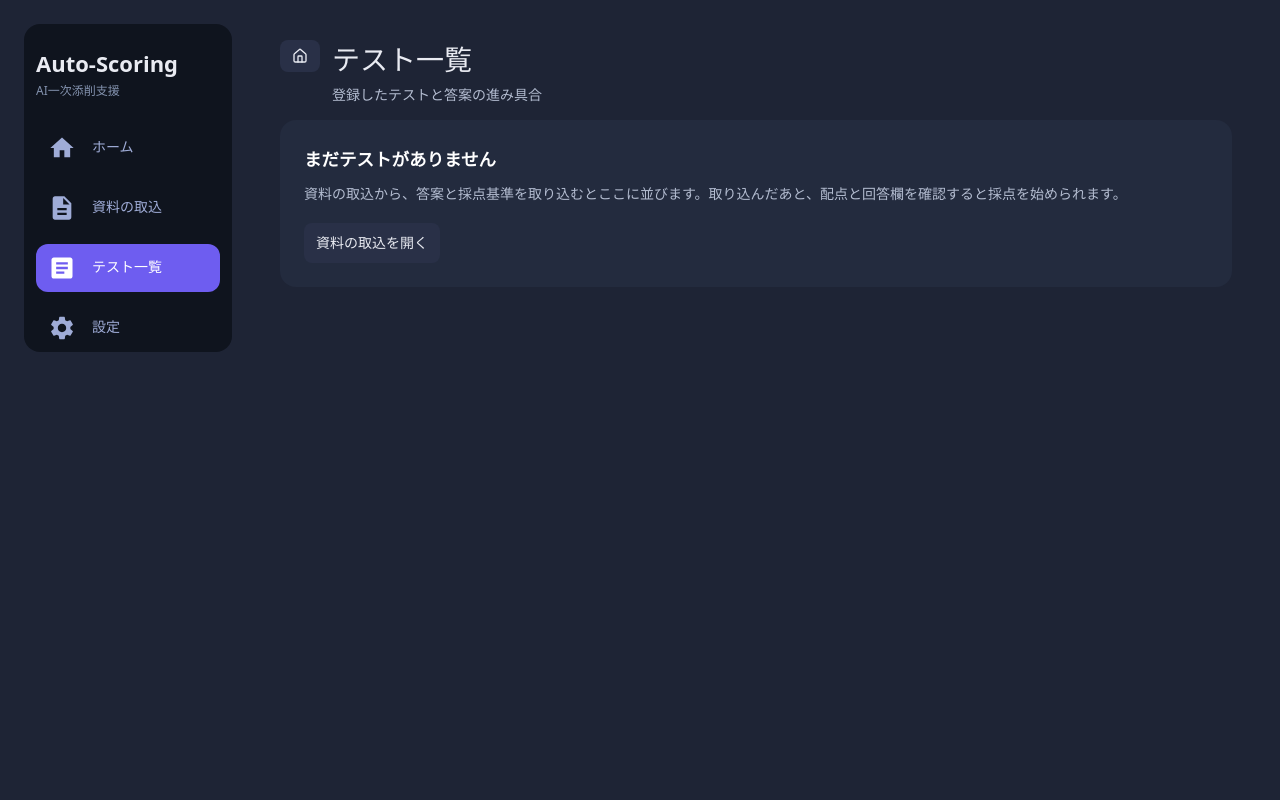
Scenario: TestListPage (Issue #379) › shows the empty state and routes to intake when no test is registered
This screenshot has width=1280, height=800.
Check: the element with test id "test-list-empty" is shown, box [280,120,1232,287]
Step 1. Click the button with test id "test-list-empty-intake" → (372, 243), box [304,223,440,263]
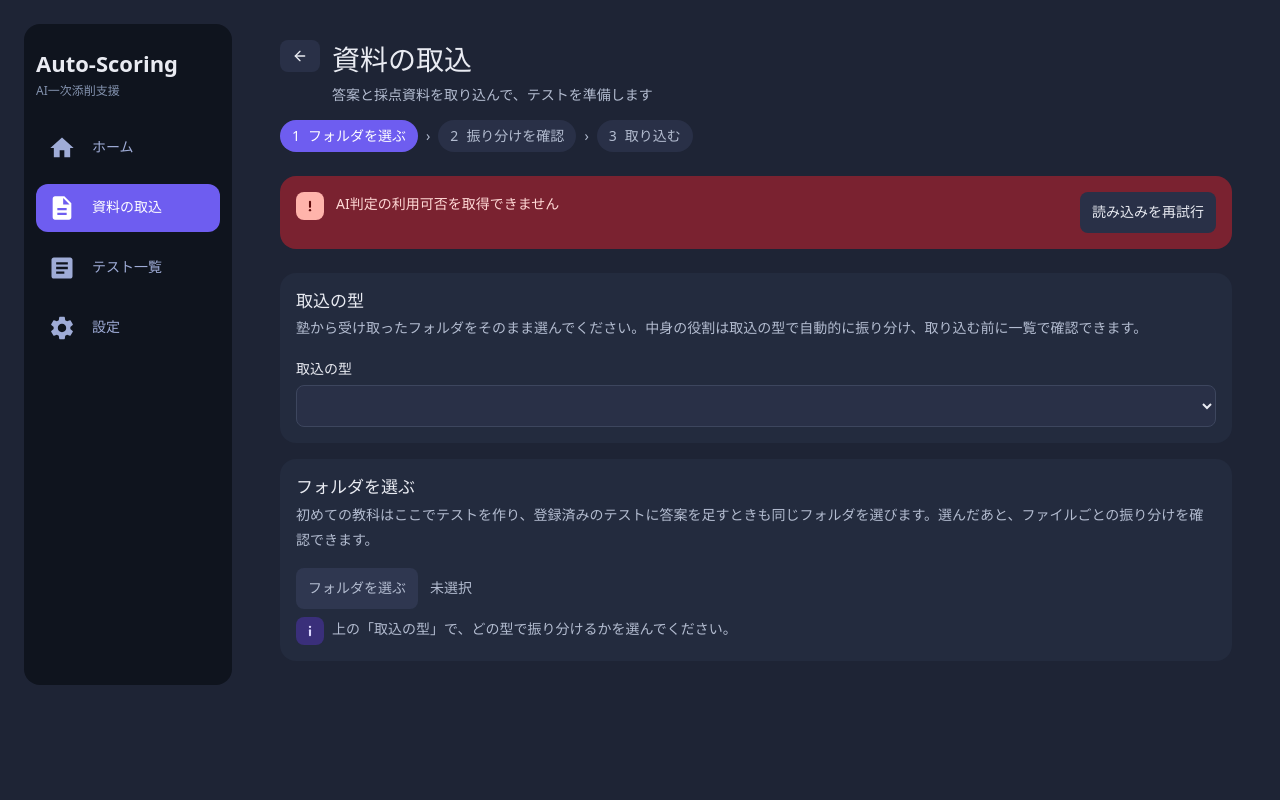
Check: the heading with test id "page-title" reads "資料の取込", box [332,40,472,78]
